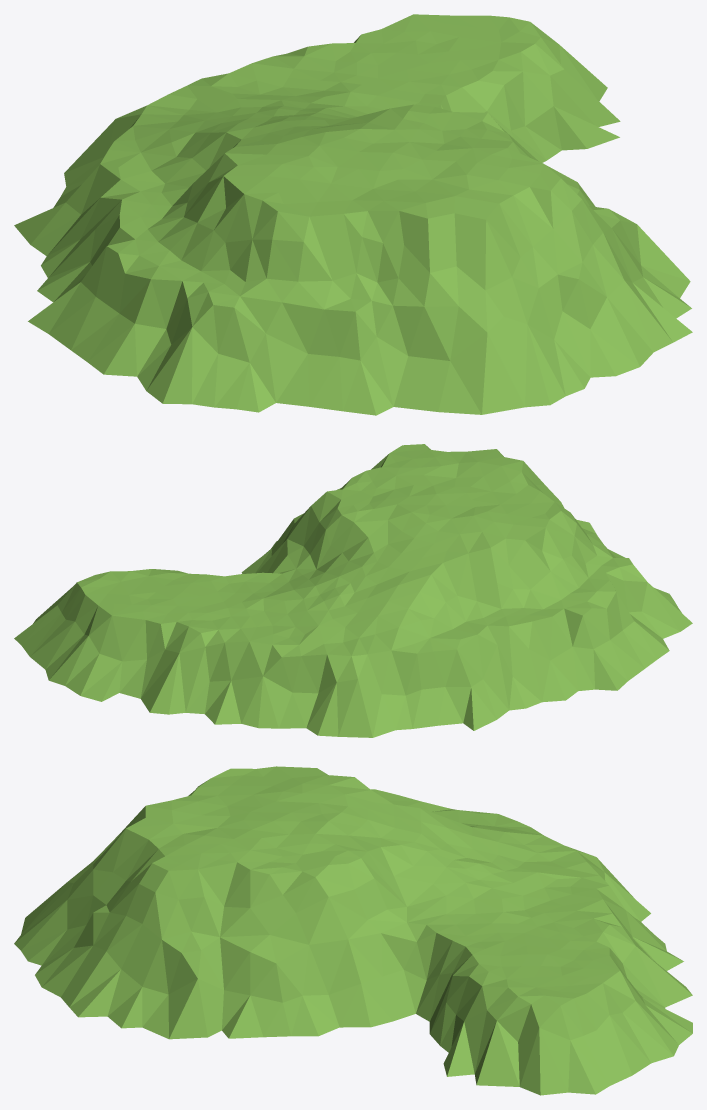
File: MT_Island_L_b_06_LOD.fbx
3 views of the same model, one above another, from view 1: azimuth 30°, elevation 25°; view 2: azimuth 150°, elevation 25°; view 3: azimuth 270°, elevation 25° (orthographic). The views are drawn at different scales.
Parts seen in each view (by area): view 1: MT_Island_L_b_06_LOD0; view 2: MT_Island_L_b_06_LOD0; view 3: MT_Island_L_b_06_LOD0.
Part boxes in pixels (box(x1,y1,x2,y2)): MT_Island_L_b_06_LOD0: box(14, 14, 692, 415); MT_Island_L_b_06_LOD0: box(14, 444, 692, 737); MT_Island_L_b_06_LOD0: box(14, 766, 692, 1095).
Size of what is drawn, in the model's own units: 7911 by 1594 by 8118.
